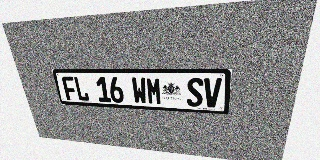1: (95, 77, 111, 102)
6: (108, 77, 124, 103)
F: (61, 76, 78, 101)
L: (73, 77, 90, 101)
M: (146, 77, 162, 105)
S: (187, 78, 204, 107)
V: (203, 78, 222, 108)
W: (131, 77, 147, 104)
